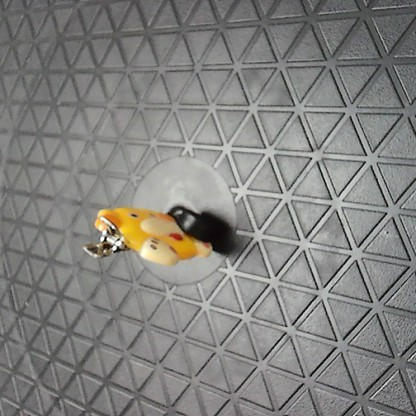dogclip: (81, 206, 217, 268)
